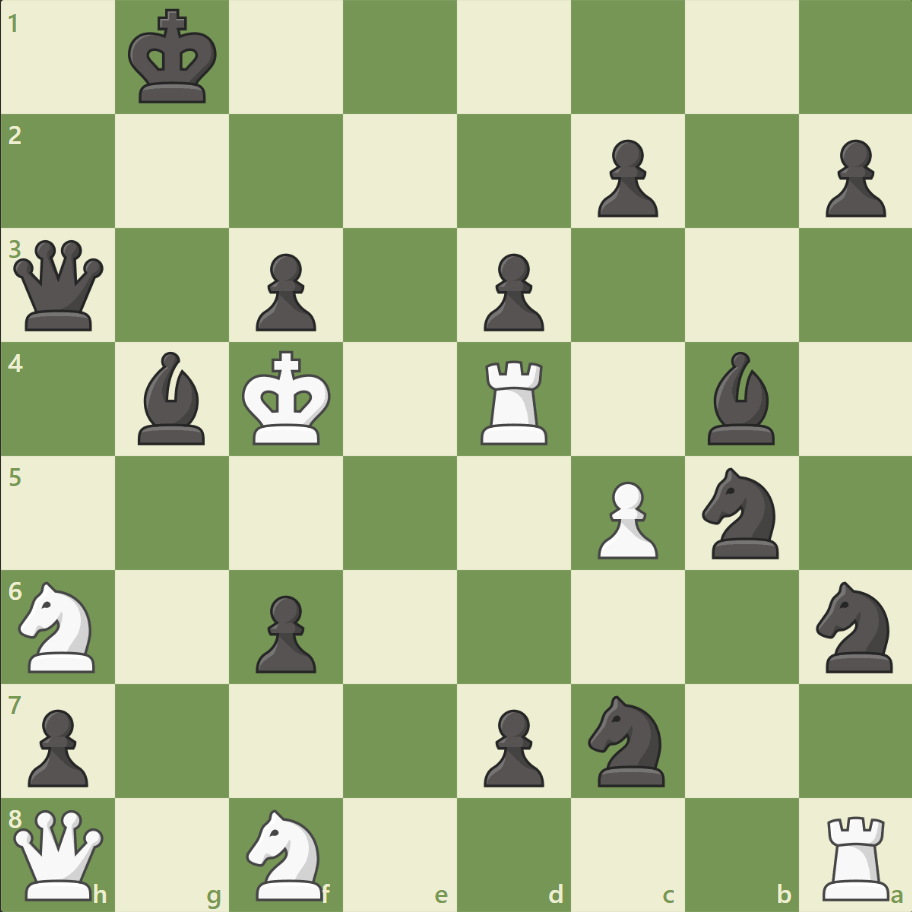K: (238, 344, 338, 452)
N: (238, 802, 335, 904), (11, 575, 108, 677)
P: (588, 473, 662, 564)
Q: (10, 804, 109, 903)
R: (814, 806, 897, 904), (473, 352, 556, 449)
b: (698, 347, 782, 449), (131, 347, 215, 449)
k: (124, 4, 224, 112)
n: (579, 688, 676, 791), (692, 461, 789, 564), (806, 575, 903, 677)
p: (474, 700, 549, 791), (20, 700, 95, 791), (247, 586, 322, 677), (474, 246, 549, 337), (247, 246, 322, 337), (815, 132, 889, 223), (588, 132, 662, 223)
q: (10, 236, 109, 335)
